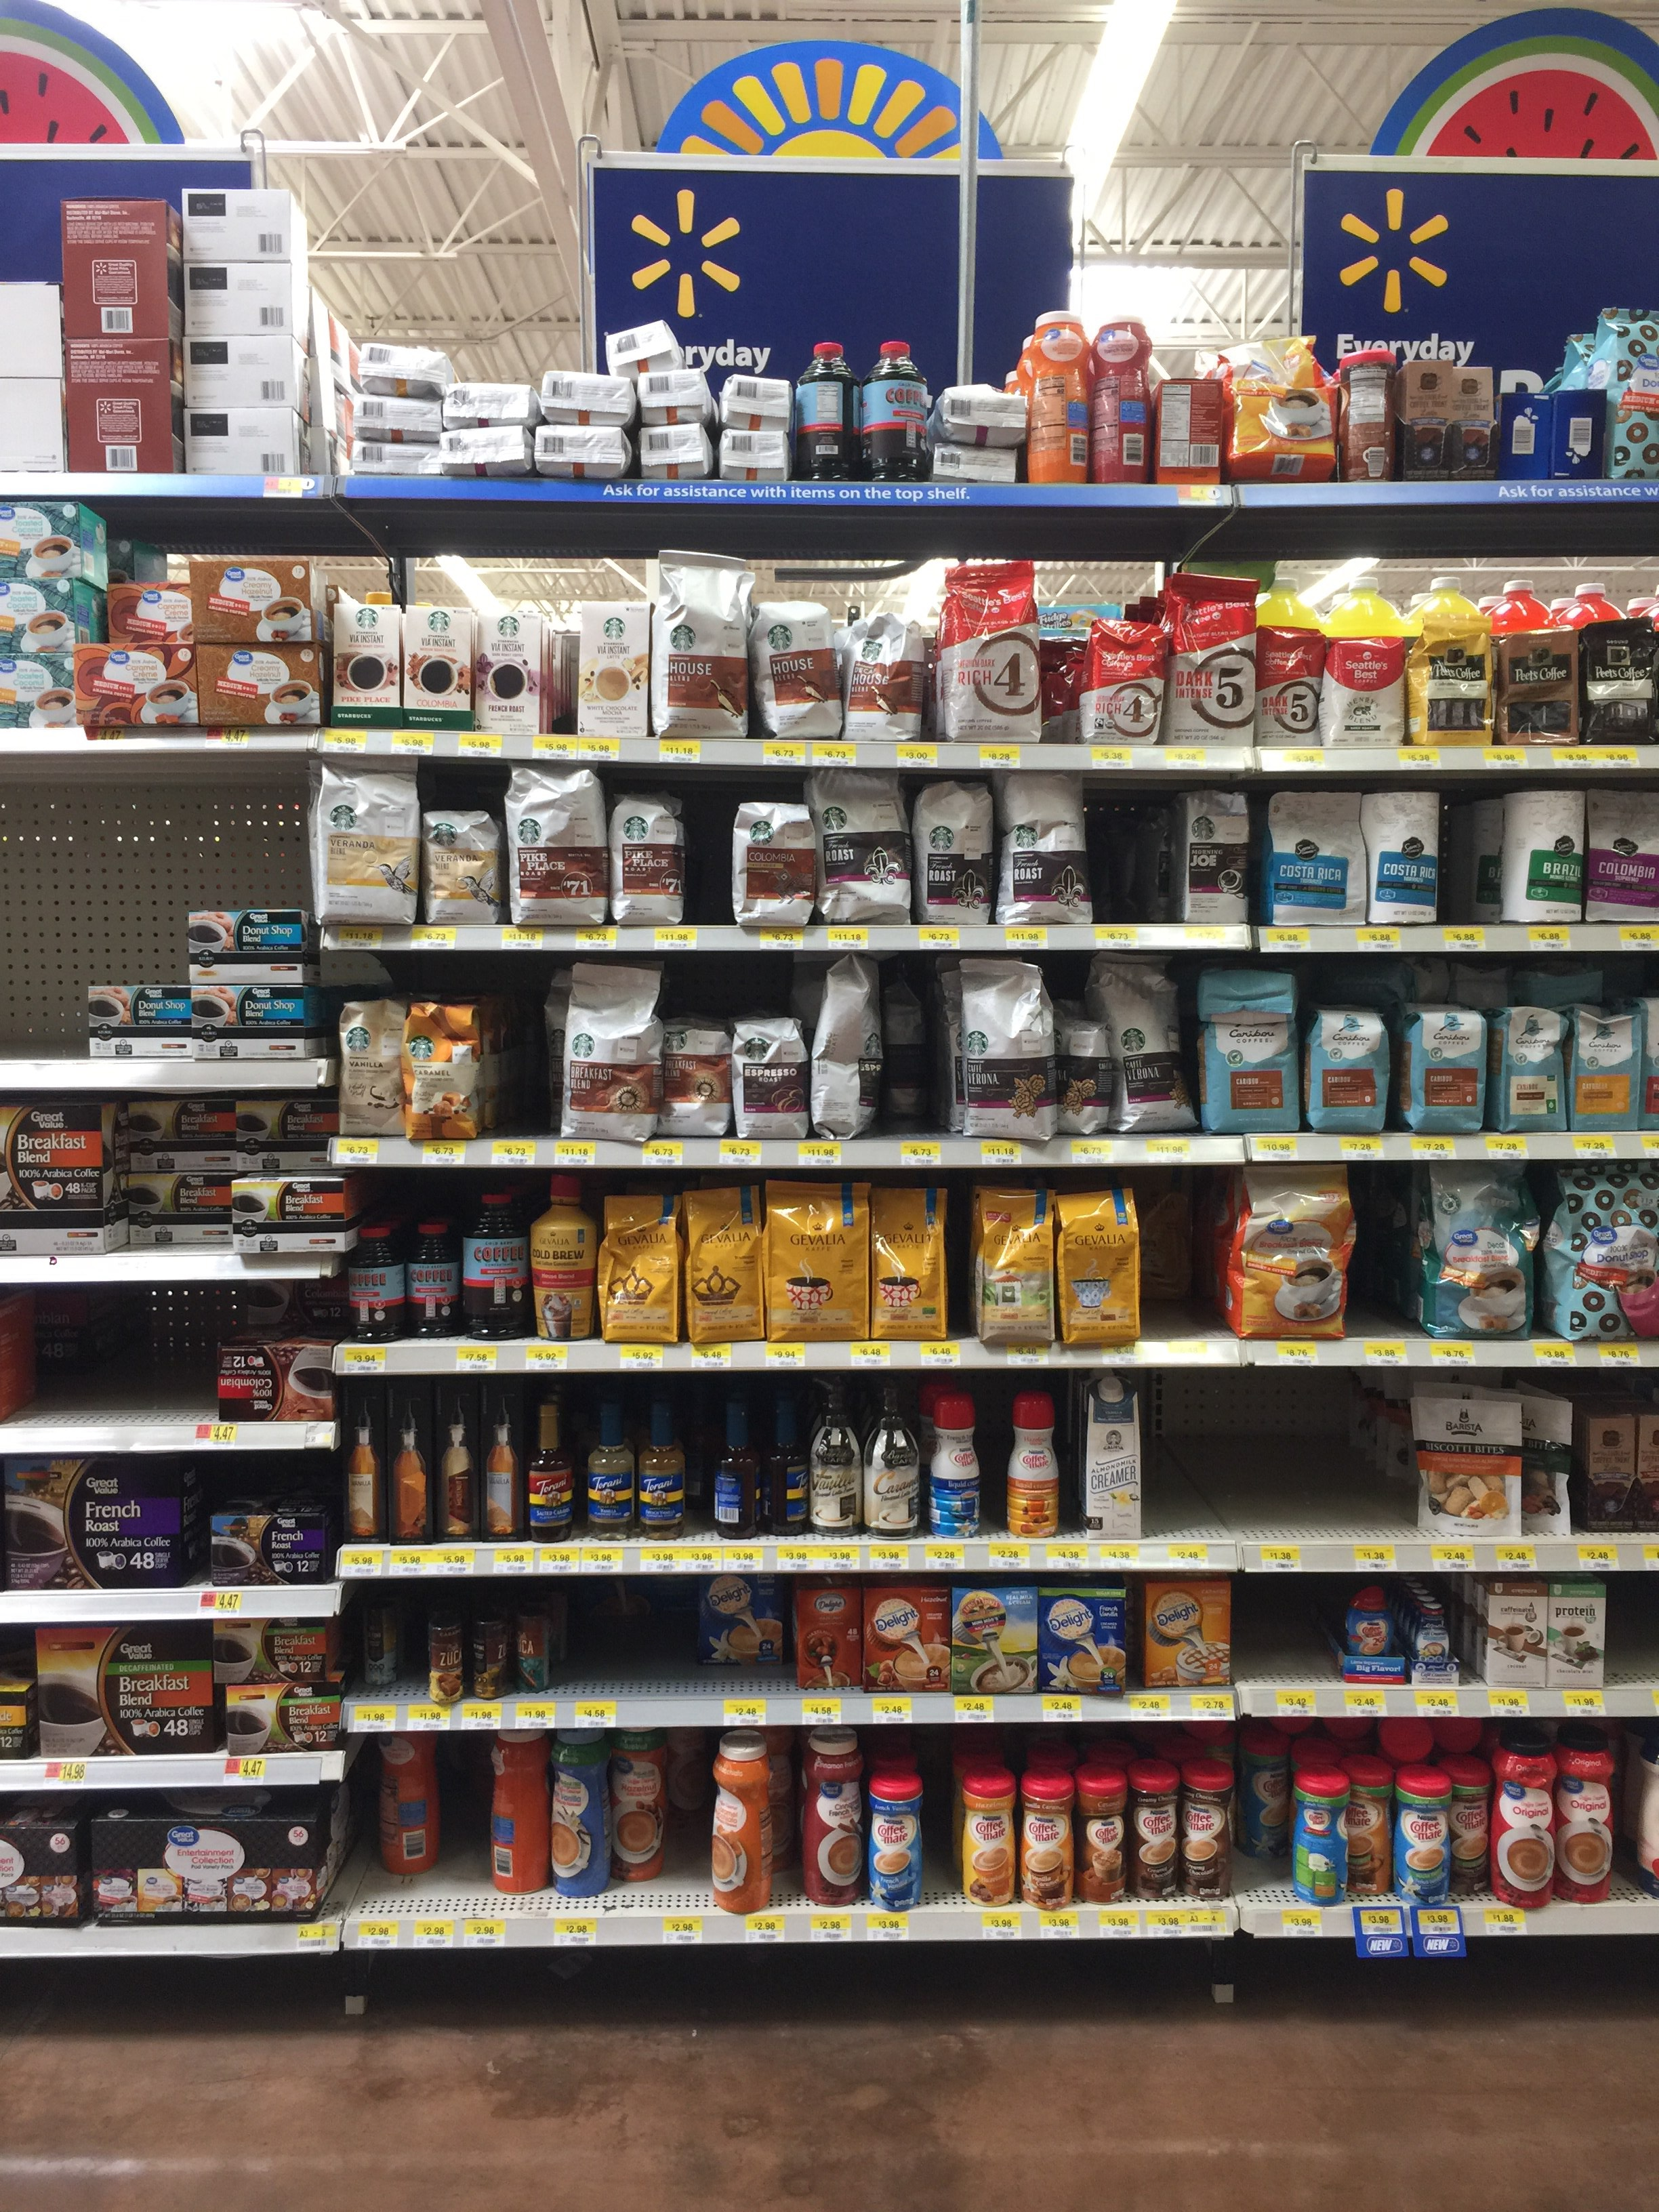Misplacement: (1234, 1723, 1297, 1909)
Out-of-stock: (1143, 1369, 1237, 1573)
